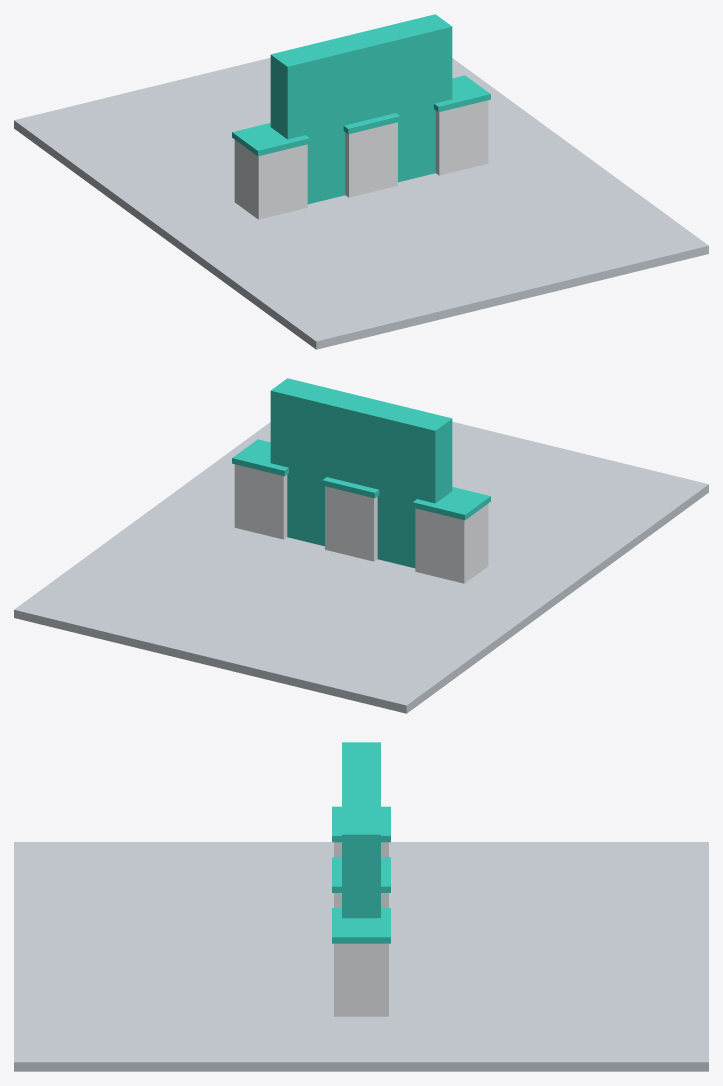
3 views of the same model, one above another, from view 1: azimuth 30°, elevation 25°; view 2: azimuth 150°, elevation 25°; view 3: azimuth 270°, elevation 25° (orthographic). The views are drawn at different scales.
Parts seen in each view (by area): view 1: Exhibition Booth Concept; view 2: Exhibition Booth Concept; view 3: Exhibition Booth Concept.
Boxes of the visible parts, x1,y1,x2,y2 form: Exhibition Booth Concept: (14,14,708,349); Exhibition Booth Concept: (14,378,708,713); Exhibition Booth Concept: (14,742,708,1071).
Size of the model in its own units: 6 by 2.2 by 8.
